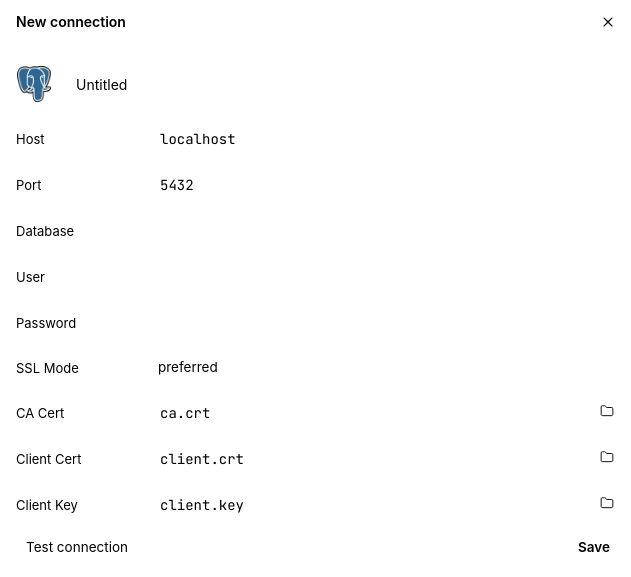
ConnectionEditorSheet Test connection › shows full error text without truncation
What coordinates should you click on to do the following:
click the button "Test connection"
I would click on:
 (77, 547)
Its box is top-left (16, 534), bottom-right (138, 560).
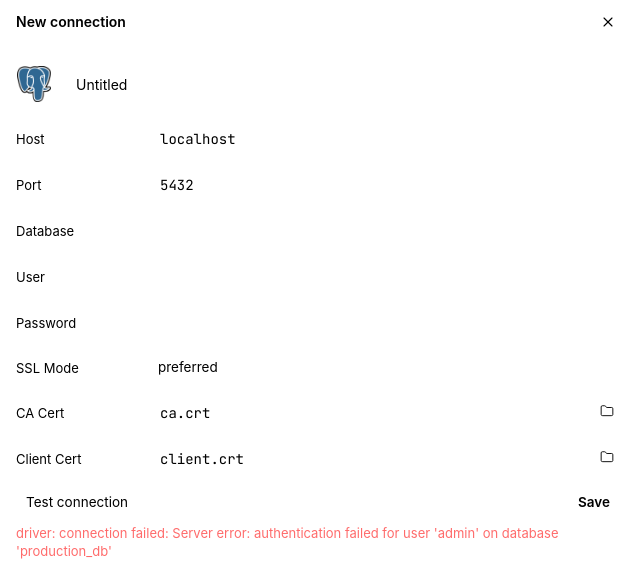
Expected: the text "driver: connection failed: Server error:" shows "driver: connection failed: Server error: authentication failed for user 'admin' on database 'production_db'", top-left (16, 525), bottom-right (559, 559)
